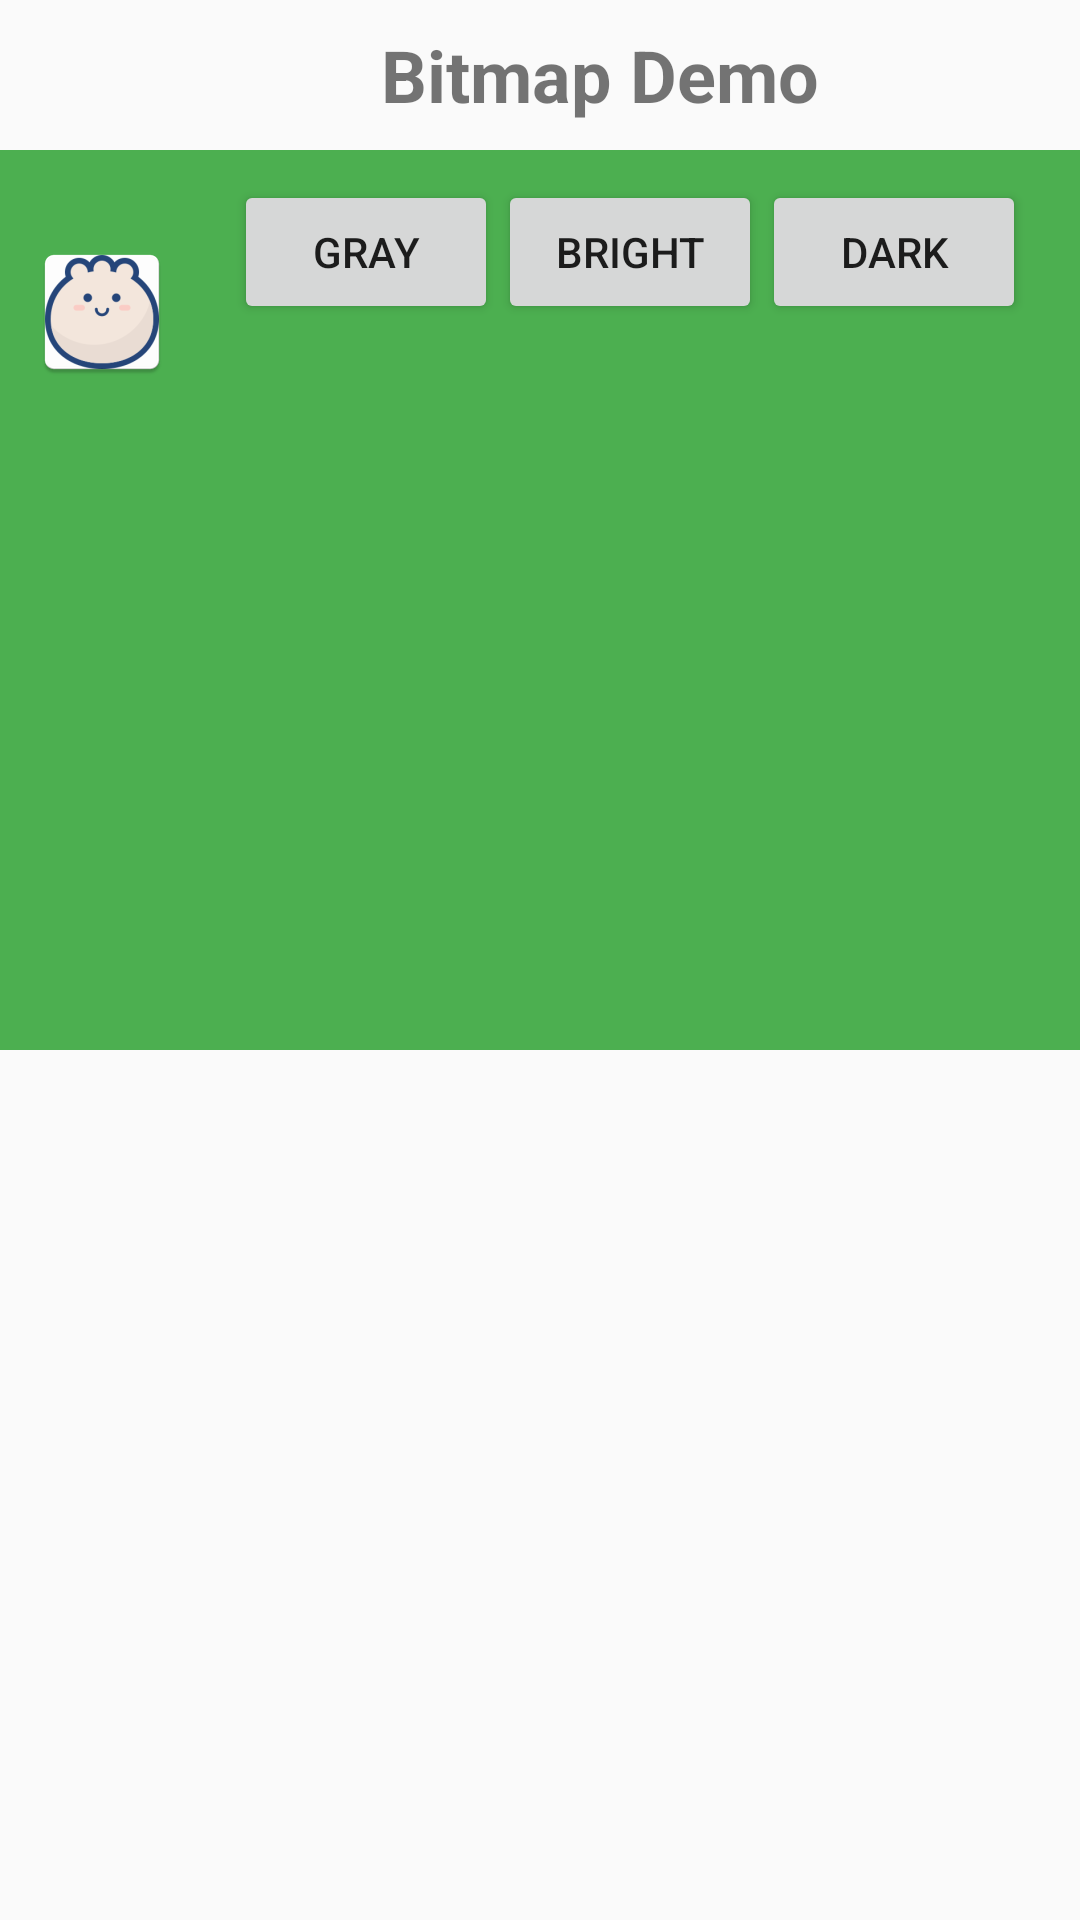

Named icons in this screenshot (1080px x 1920px) and their bounding boxes, [left=x1, top=y1, right=x2, bottom=y2]:
baozi: [left=45, top=255, right=159, bottom=372]
